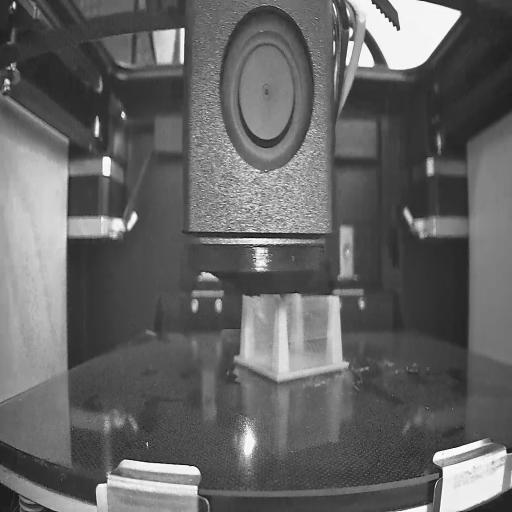stringing: (285, 295, 335, 378), (249, 293, 275, 375)
